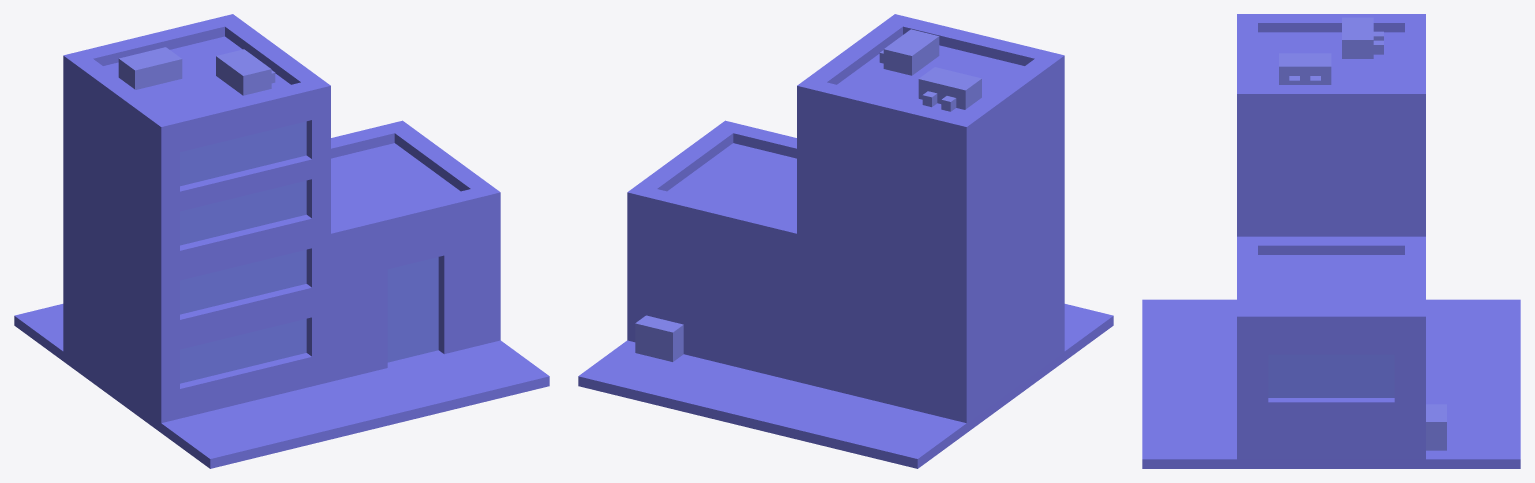
File: taxicompany.obj
The picture shows the model from 3 angles, left to right: view 1: azimuth 30°, elevation 25°; view 2: azimuth 150°, elevation 25°; view 3: azimuth 270°, elevation 25°; orthographic projection. The views are drawn at different scales.
Size of the model in its own units: 9 by 8 by 9.
